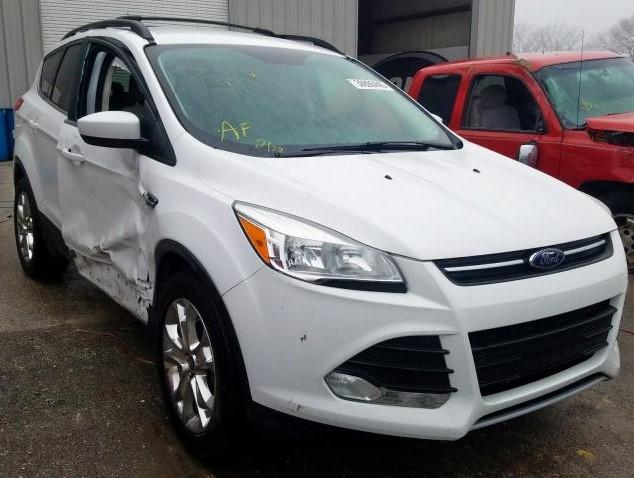Broken part: (84, 36, 155, 109), (140, 288, 153, 329), (140, 190, 158, 212)
Dent: (55, 146, 150, 302), (136, 183, 164, 298)
Missing part: (62, 235, 146, 318), (75, 42, 146, 124)
Paint chip: (289, 400, 305, 419), (91, 243, 110, 256), (67, 246, 78, 259), (136, 277, 150, 283), (127, 279, 139, 286), (302, 332, 308, 343), (137, 296, 143, 304), (146, 270, 150, 281), (125, 236, 132, 242), (139, 247, 143, 257), (144, 286, 152, 290)
Scratch: (87, 257, 113, 267), (82, 256, 90, 263), (135, 292, 138, 300), (97, 278, 101, 284), (119, 286, 121, 296), (79, 267, 83, 272), (89, 272, 93, 276), (126, 280, 128, 287), (116, 282, 118, 288), (108, 265, 109, 276), (118, 272, 119, 280), (150, 282, 151, 287)
